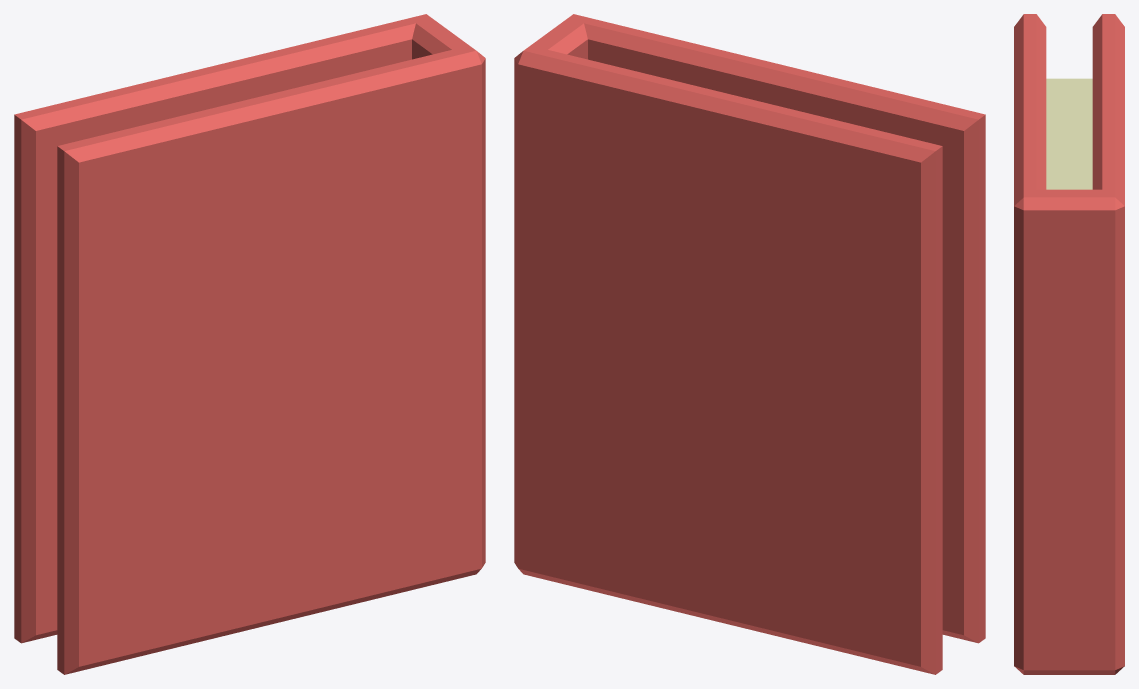
The model's file is BookSkinnyShortBlockout_RB.fbx.
The picture shows the model from 3 angles, left to right: view 1: azimuth 30°, elevation 25°; view 2: azimuth 150°, elevation 25°; view 3: azimuth 270°, elevation 25°; orthographic projection. The views are drawn at different scales.
Parts seen in each view (by area): view 1: BookSkinnyShortBlockout_RB; view 2: BookSkinnyShortBlockout_RB; view 3: BookSkinnyShortBlockout_RB.
Part boxes in pixels (<box>): BookSkinnyShortBlockout_RB: <box>14,14,485,674</box>; BookSkinnyShortBlockout_RB: <box>514,14,985,674</box>; BookSkinnyShortBlockout_RB: <box>1014,14,1124,674</box>.
Bounding box in the file's own units: 80 × 95 × 20.
